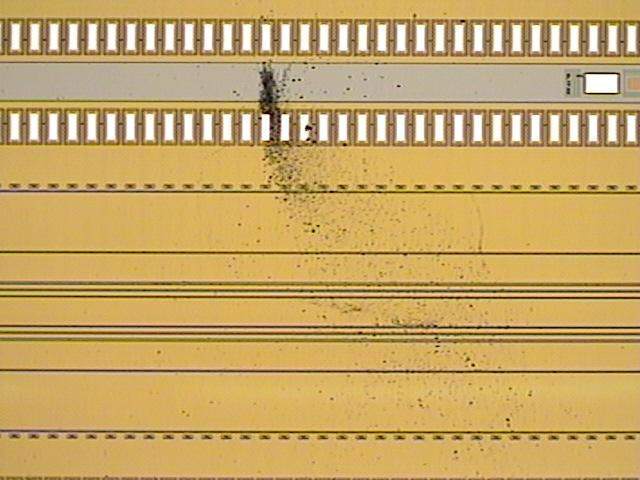PO CONTAMINATION: (151, 5, 632, 471)
